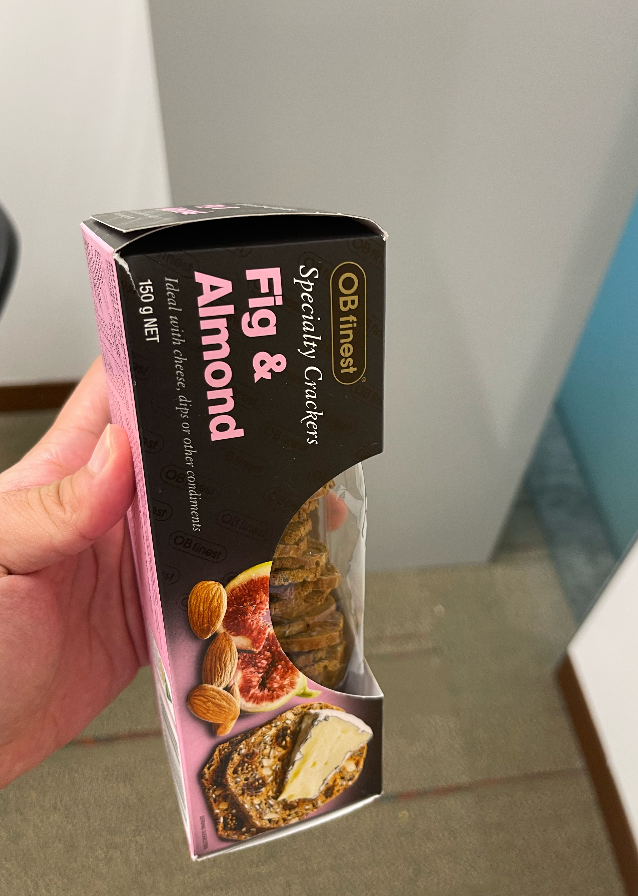crackers_100g-199g: (156, 259, 378, 826)
